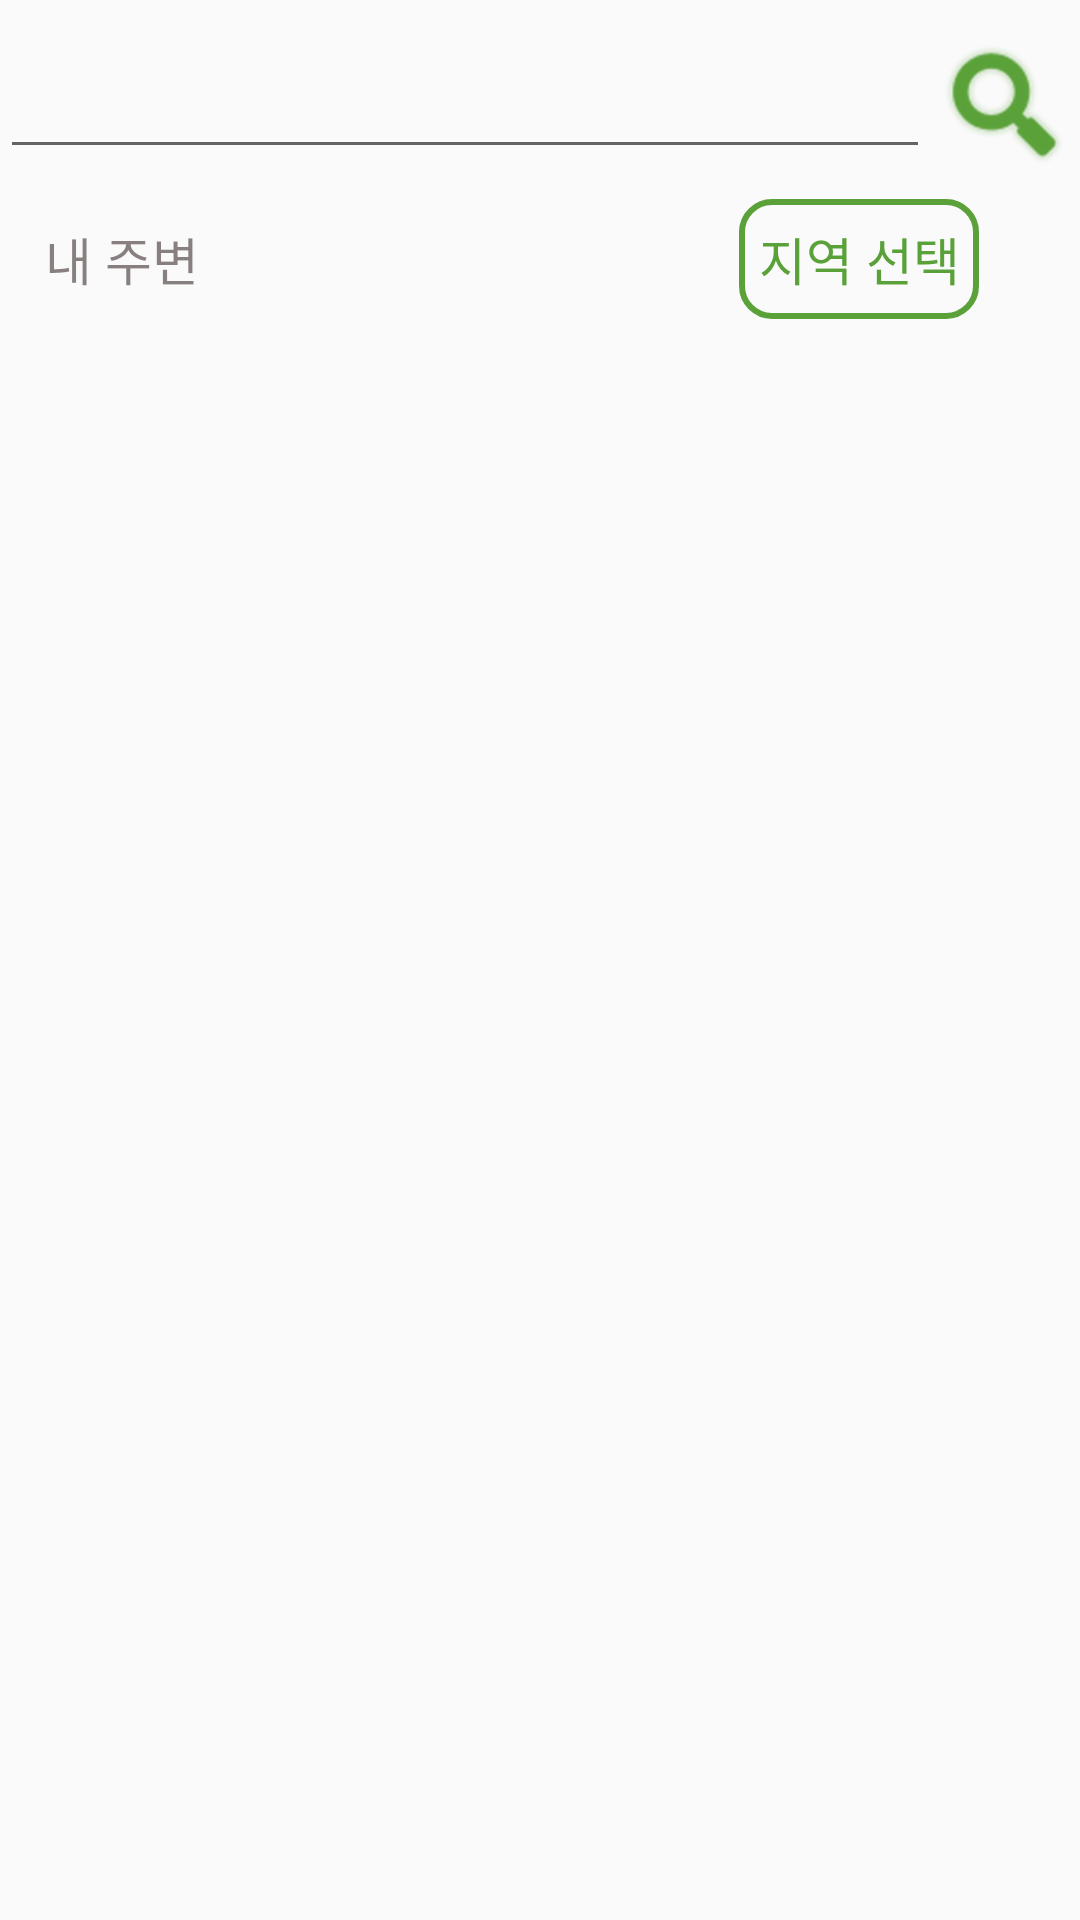

Screen size 1080w x 1920h. Icon name, then its box in pixels as (x1, y1, x2, y2):
search category: (950, 51, 1058, 159)
